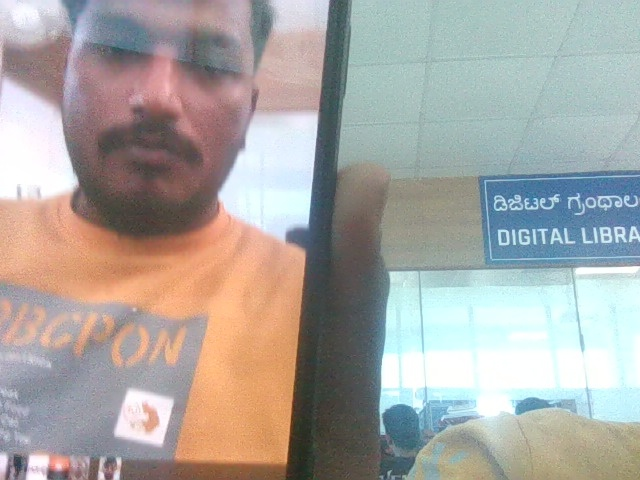fake: (32, 0, 286, 360)
